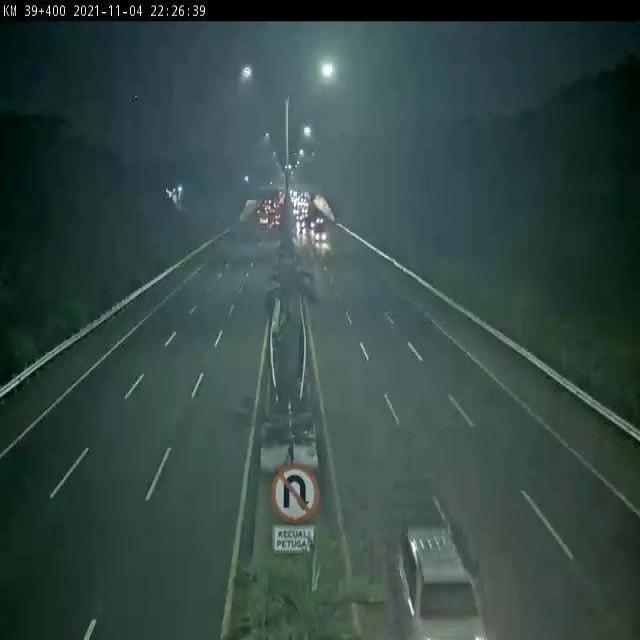Car: (398, 502, 483, 640)
